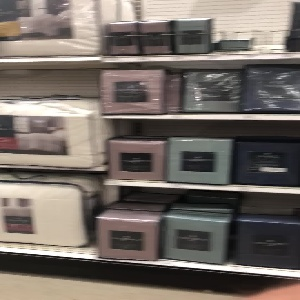void: (210, 1, 287, 53)
